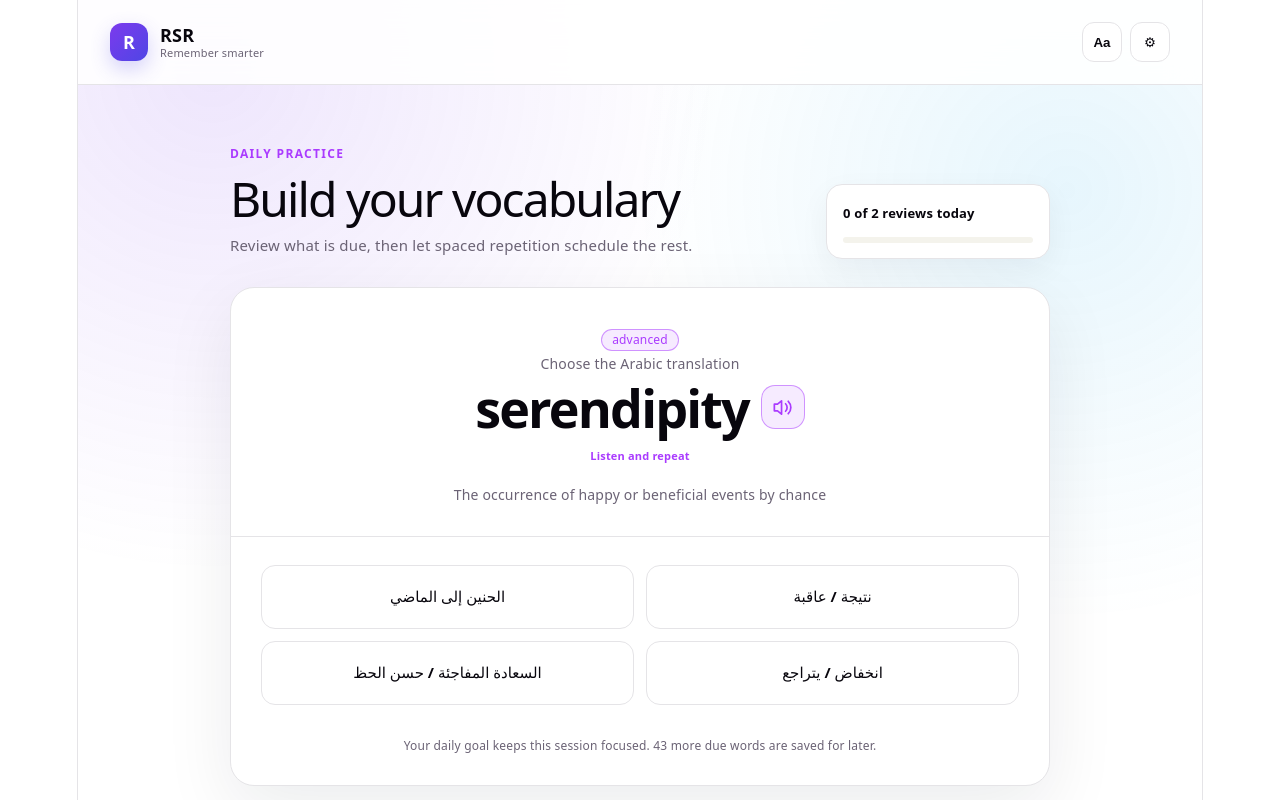
App › shows a due word and saves progress when its translation is selected
Check: the heading "serendipity" is shown, box [475,377,749,438]
Check: the text "0 of 2 reviews today" is shown, box [843,204,975,222]
Click the button "السعادة المفاجئة / حسن الحظ" at (448, 673), box [261,641,634,705]
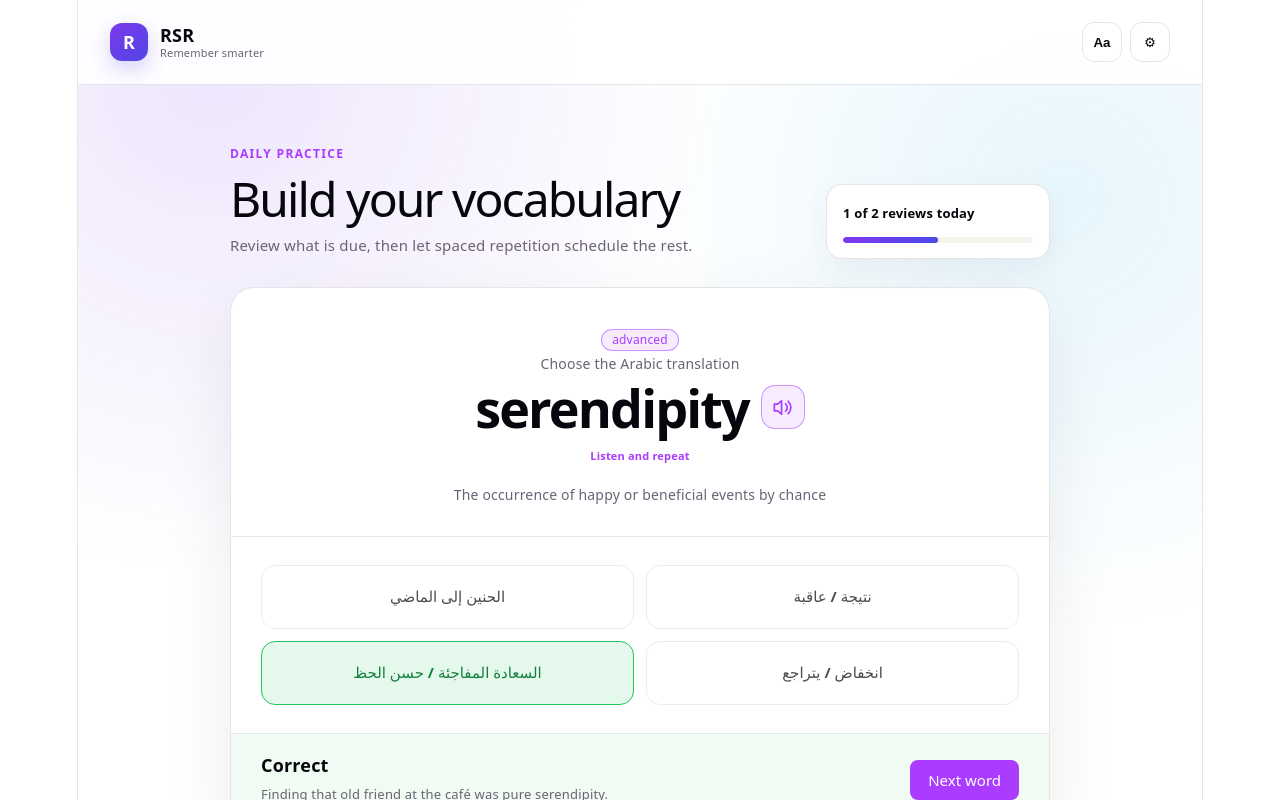
Check: the text "Correct" is shown, box [261,753,329,777]
Check: the text "1 of 2 reviews today" is shown, box [843,204,975,222]
